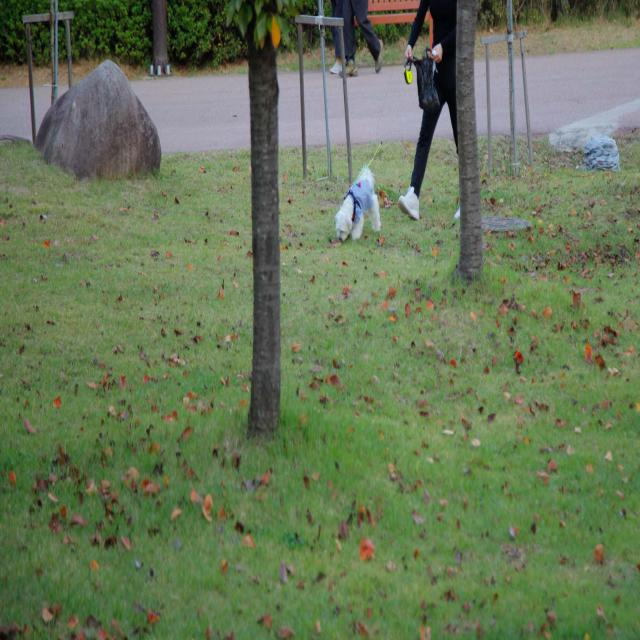Leashed_Dog: (334, 45, 419, 241)
